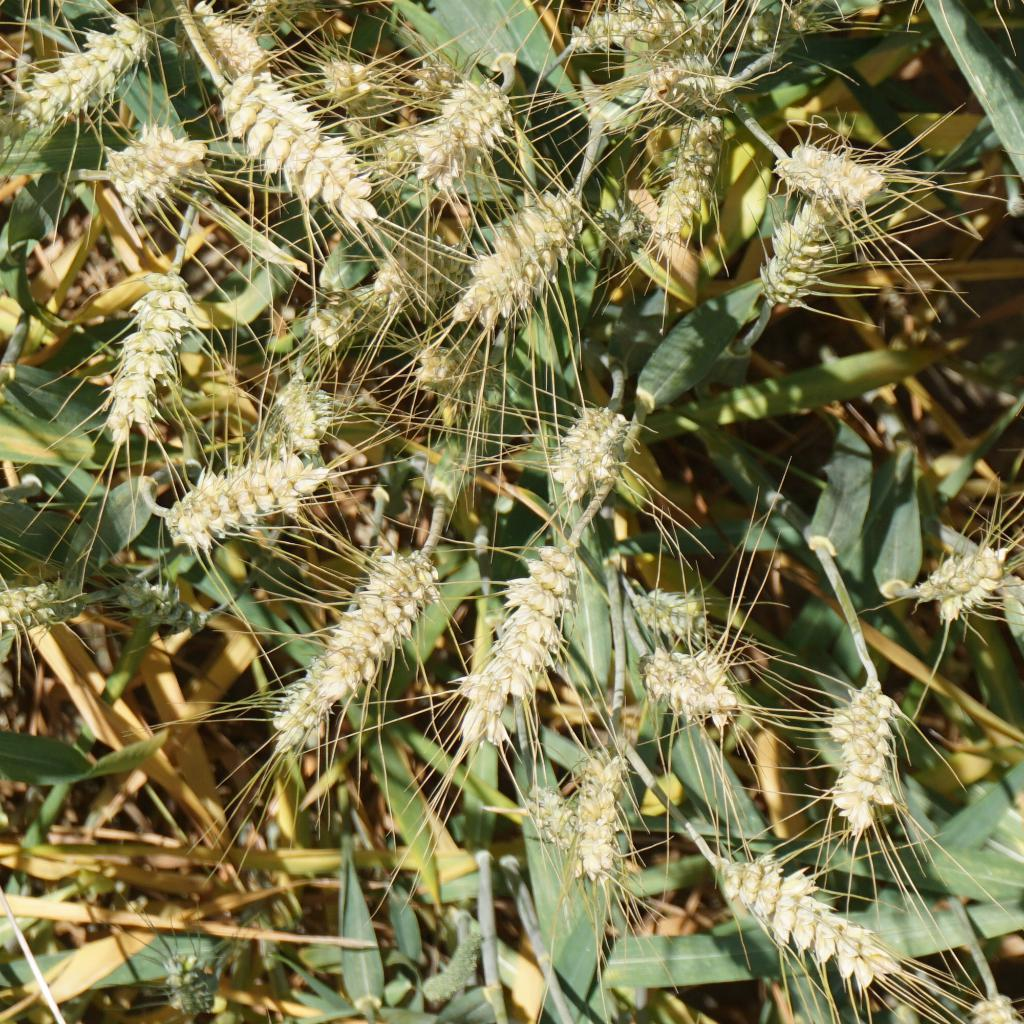0-0: (719, 860, 892, 996), (231, 71, 369, 226), (300, 540, 439, 672), (457, 548, 564, 702), (152, 443, 312, 536), (109, 270, 197, 426), (405, 88, 539, 190), (643, 122, 743, 254), (823, 664, 912, 812), (559, 760, 652, 900), (638, 631, 764, 732), (31, 16, 143, 128), (476, 207, 579, 312), (769, 131, 897, 214), (771, 199, 848, 318), (261, 647, 354, 739), (146, 947, 259, 1022), (126, 567, 233, 641), (502, 766, 590, 851), (182, 5, 277, 82), (924, 537, 1009, 623), (108, 113, 188, 199), (0, 563, 76, 648), (557, 403, 632, 487), (630, 568, 709, 640), (315, 48, 387, 123), (630, 48, 726, 102), (415, 338, 482, 408), (584, 182, 649, 250), (361, 244, 429, 308), (272, 378, 331, 449), (641, 3, 726, 48), (568, 0, 647, 47), (384, 49, 451, 100), (311, 288, 359, 359), (967, 984, 1021, 1024)
